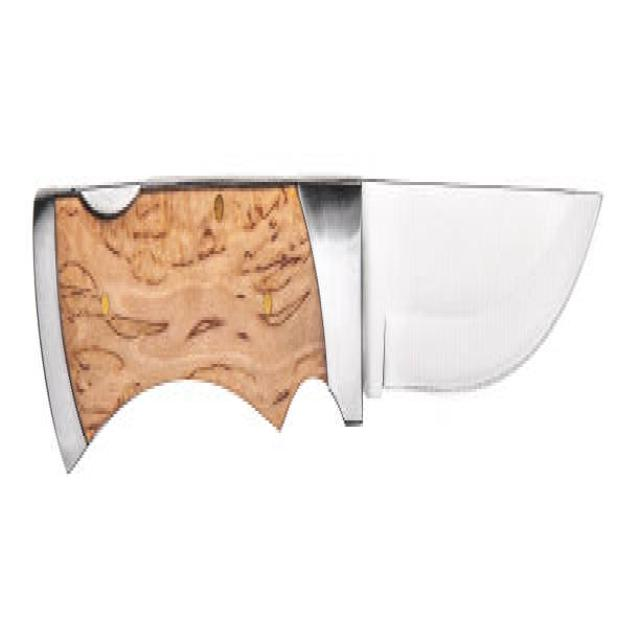knife: (25, 135, 611, 503)
